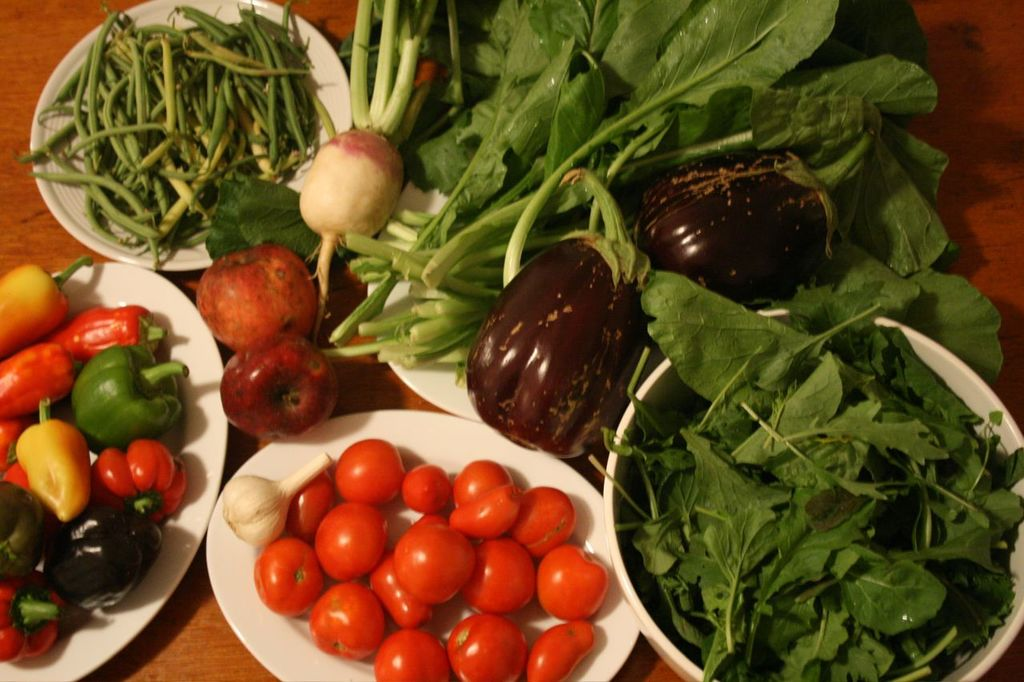Tomato: (252, 437, 614, 681), (381, 531, 465, 615)
